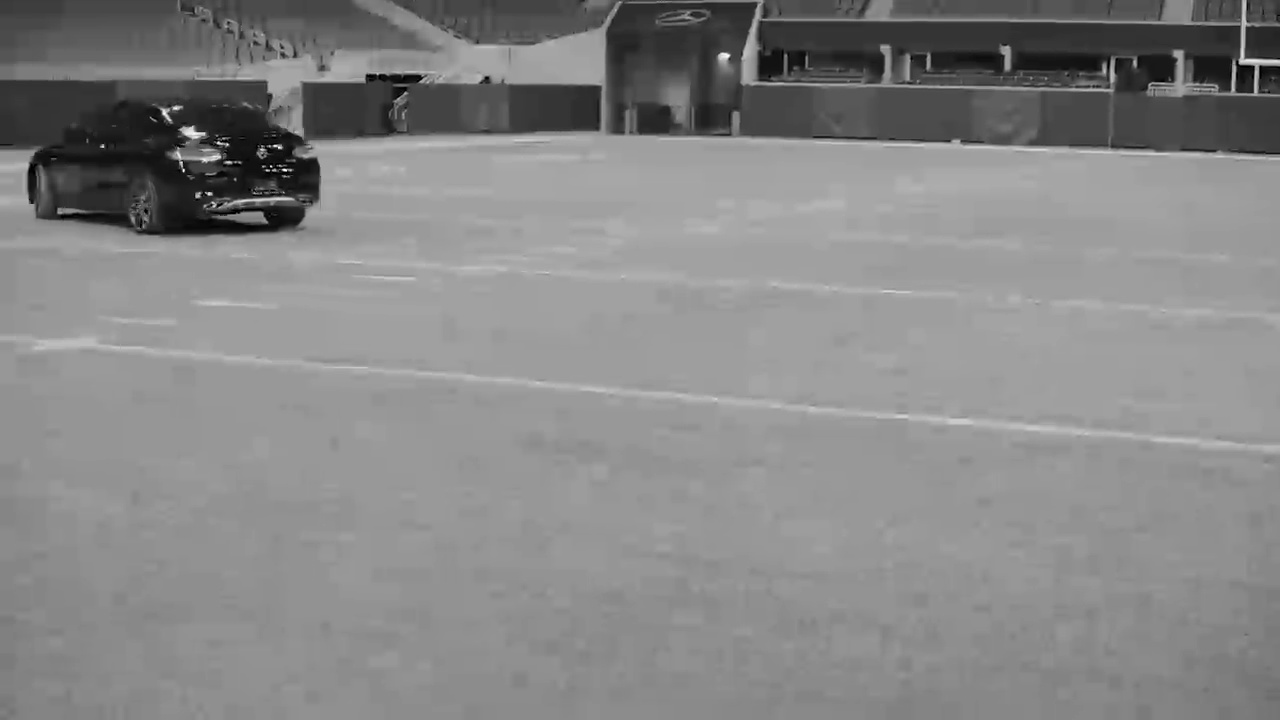car: (24, 94, 334, 238)
